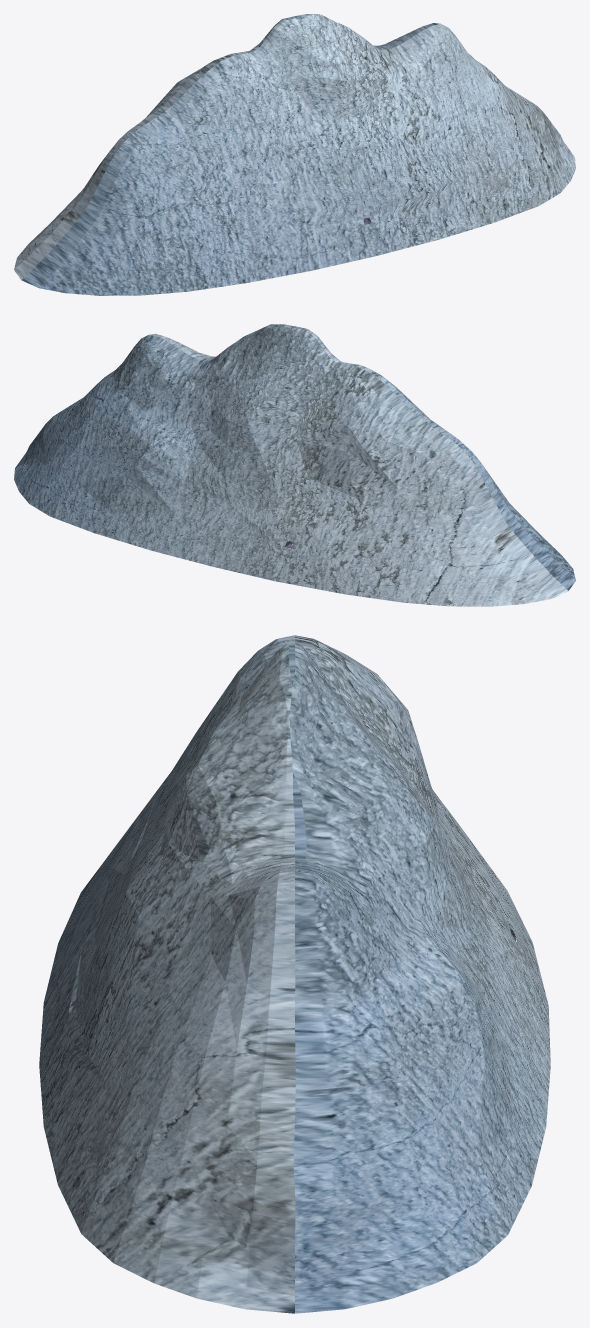
File: CaveWithMountain.fbx
The picture shows the model from 3 angles, top to bottom: view 1: azimuth 30°, elevation 25°; view 2: azimuth 150°, elevation 25°; view 3: azimuth 270°, elevation 25°; orthographic projection. The views are drawn at different scales.
Visible parts, largest first — view 1: Mountain; view 2: Mountain; view 3: Mountain.
Part boxes in pixels (x1,y1,x2,y2): Mountain: (14, 14, 575, 295); Mountain: (14, 324, 575, 606); Mountain: (39, 635, 550, 1313).
Size of the model in its own units: 11647 by 4016 by 4728.
